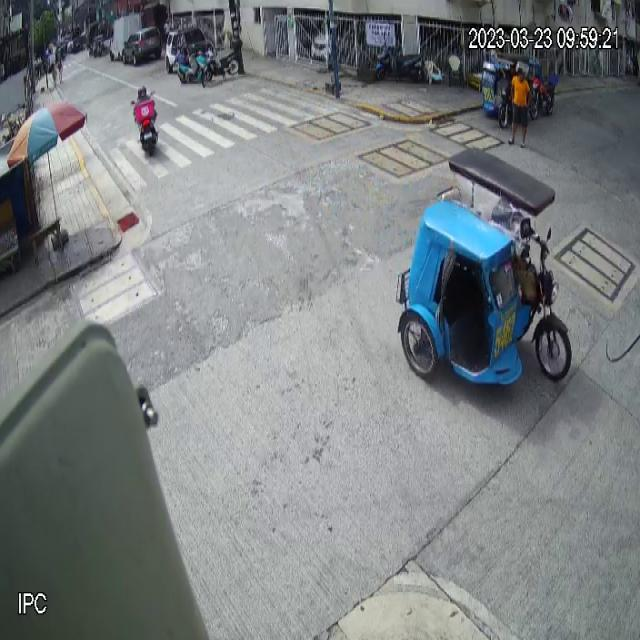Motorcycle: (130, 89, 159, 157)
Tricycle: (395, 145, 575, 389)
